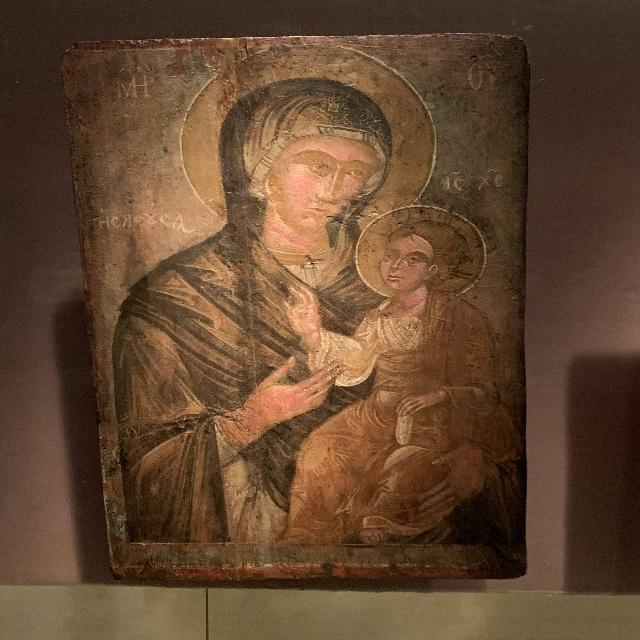aura: (163, 40, 436, 226), (365, 203, 488, 302)
christ_kid: (280, 204, 493, 548)
hand: (278, 283, 331, 338)
mary: (127, 46, 414, 540)
